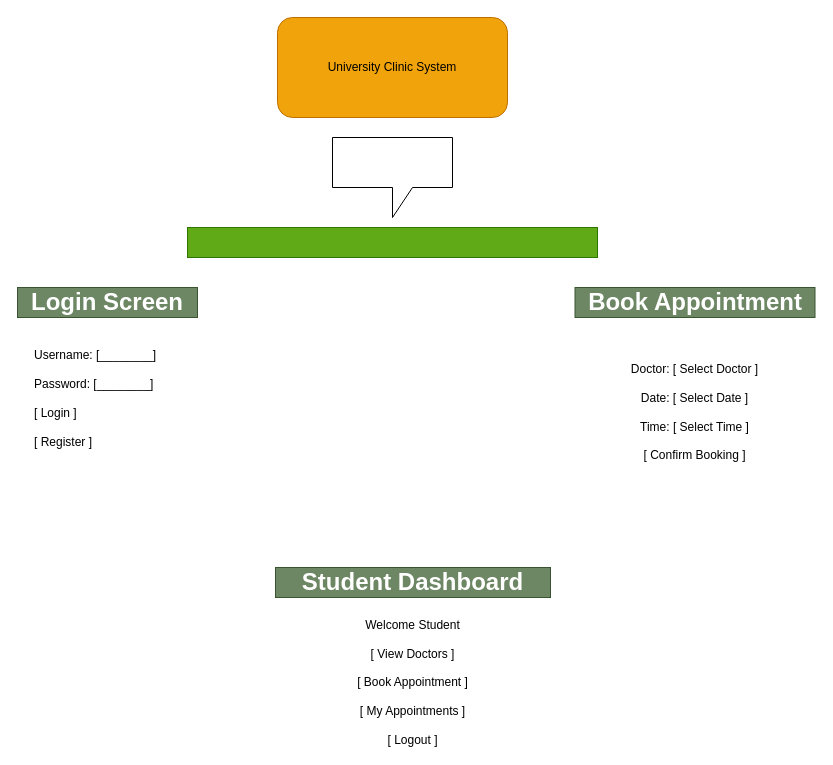
Image size: 833x765. Some labels were removed from this diagram. The shapes that lost their labels are listed below. From the top down, each one's box as (x1, y1, x2, y2) in pixels, then its label:
(332, 136, 452, 218): Layout
(186, 226, 598, 258): [ Login Screen ] [ Student Dashboard ] [ Book Appointment ]
